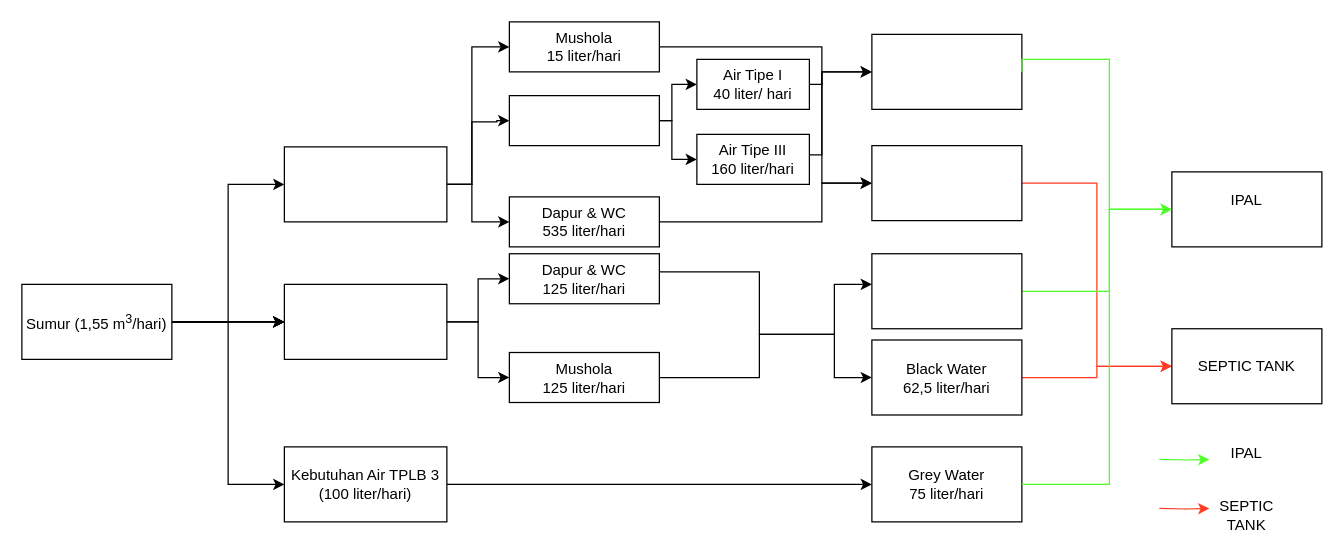
The diagram is 1344 pixels wide and 556 high, and some of its shapes have lost their labels. The centre of each missing label's shape, as x and y in pixels:
Black Water 187,5 liter/hari: (946,182)
Grey Water 187,5 liter/hari: (946,290)
Grey Water 562,5 liter/hari: (946,71)
Kebutuhan Air Karyawan Utilitas (750 liter/hari): (365,184)
Kebutuhan Air Pasien (250 liter/hari): (365,321)
Laboratorium 200 liter/hari: (583,120)
